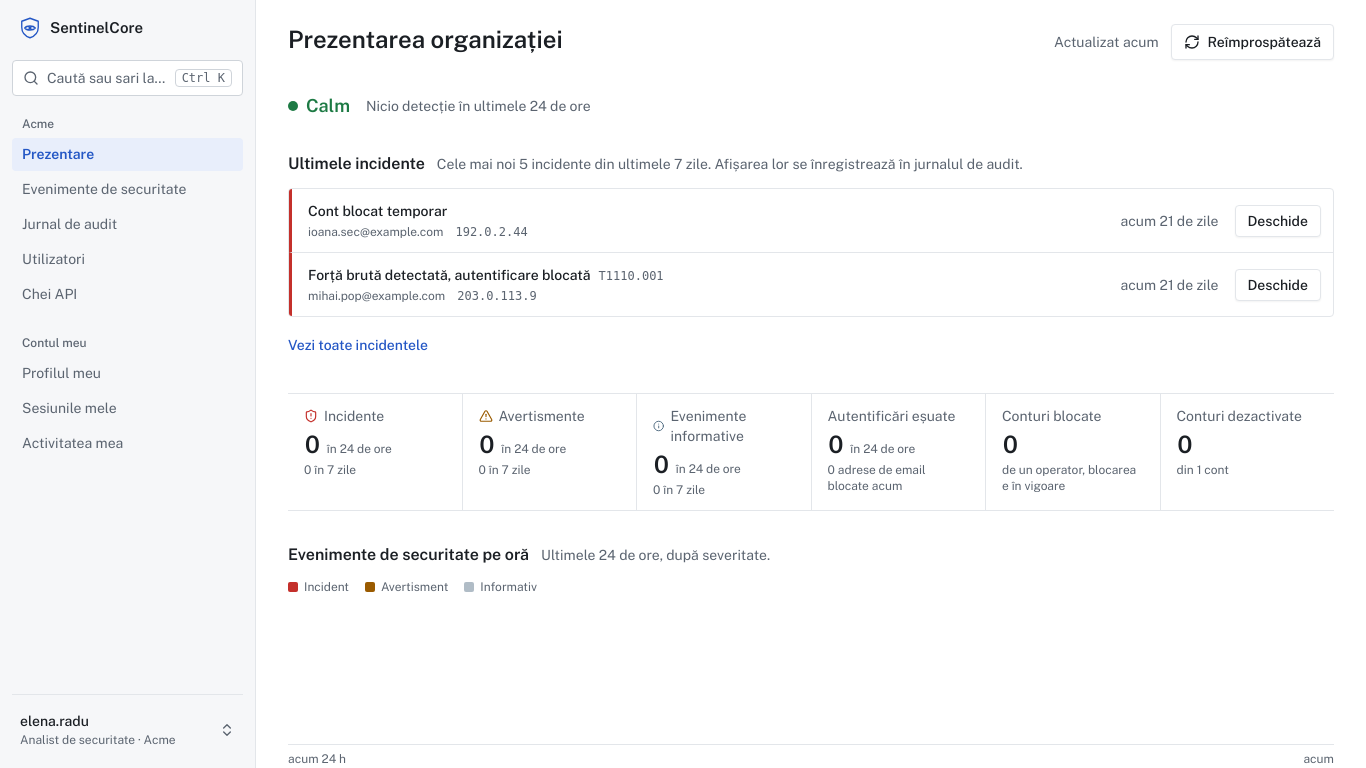
organization overview › lists the newest incidents of the last 7 days and opens their details
The image size is (1366, 768).
Expected: the heading "Prezentarea organizației" is shown, x1=288 y1=24 x2=563 y2=54
Expected: the list item that starts with "Cont blocat temporar" is shown, x1=308 y1=203 x2=447 y2=219
What coordinates should you click on to do the following:
click the button with aria-label "Deschide Cont blocat temporar"
I would click on:
 (1278, 220)
Its box is x1=1234 y1=204 x2=1321 y2=236.
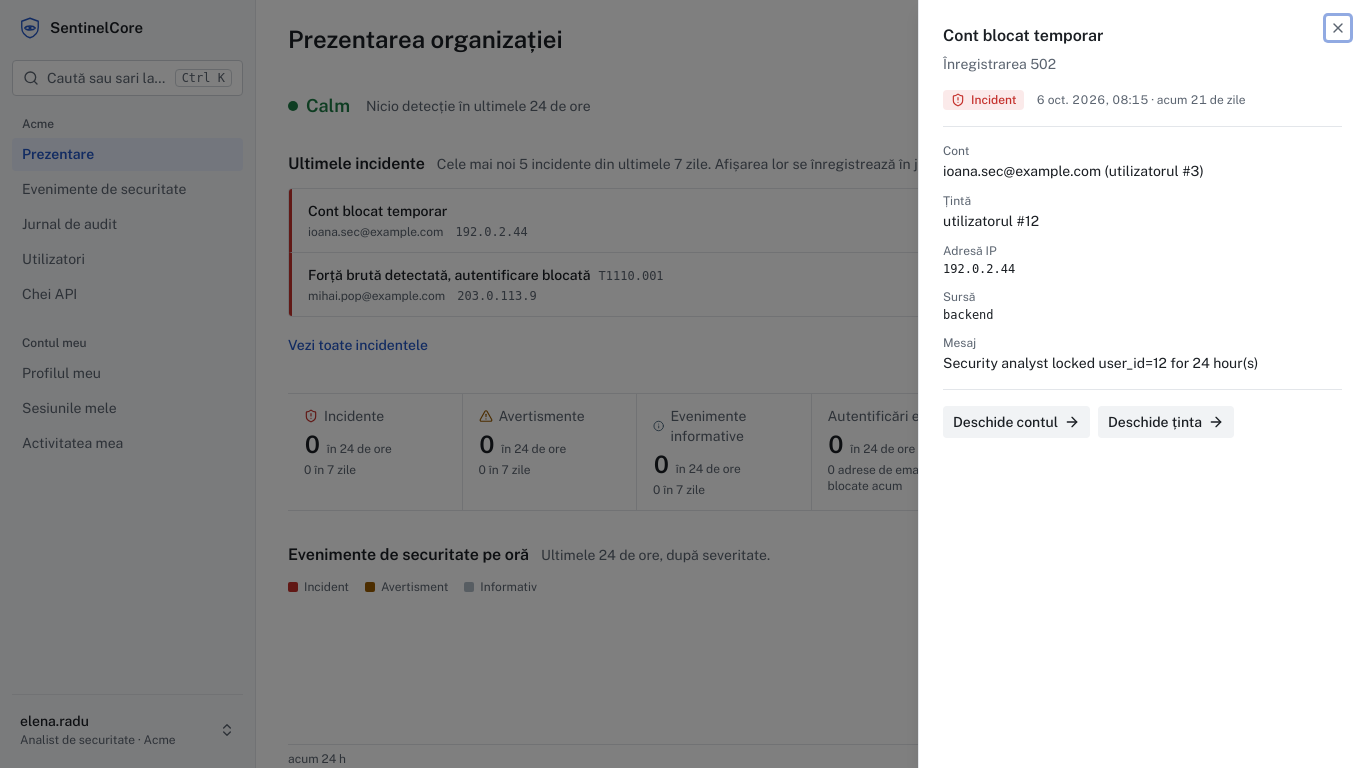
Expected: the dialog "Cont blocat temporar" shows "Security analyst locked user_id=12 for 24 hour(s)", x1=943 y1=355 x2=1258 y2=371
